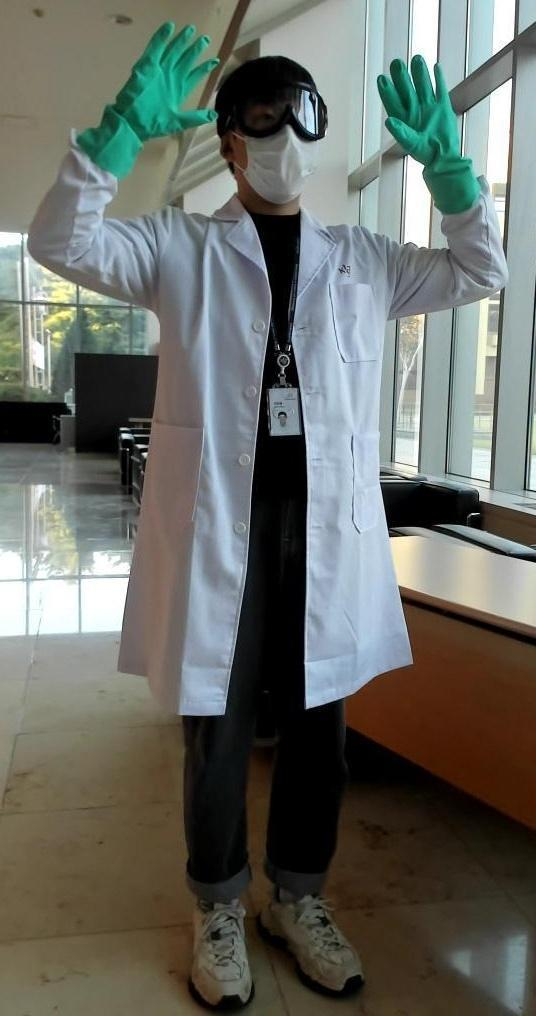lab_coat: (138, 236, 398, 700)
